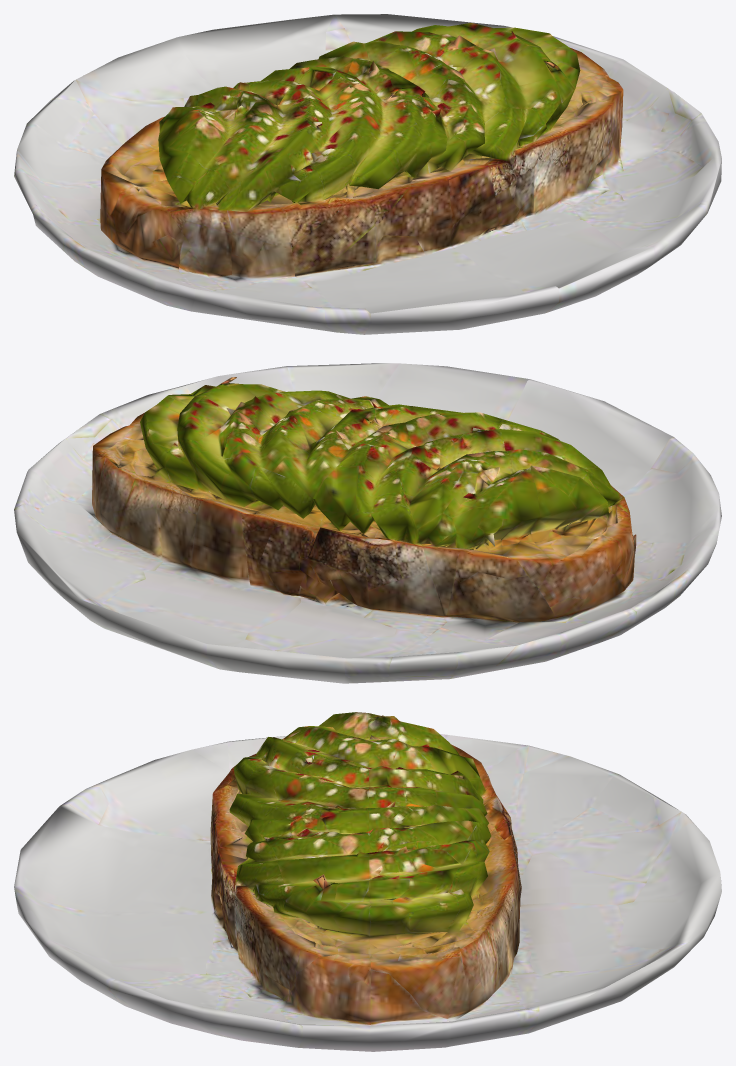
Rendered from avocado-toast-ar.glb.
The picture shows the model from 3 angles, top to bottom: view 1: azimuth 30°, elevation 25°; view 2: azimuth 150°, elevation 25°; view 3: azimuth 270°, elevation 25°; orthographic projection.
Parts seen in each view (by area): view 1: mesh_node; view 2: mesh_node; view 3: mesh_node.
Part boxes in pixels (left/top/right/bottom): mesh_node: left=14, top=14, right=721, bottom=334; mesh_node: left=14, top=363, right=721, bottom=683; mesh_node: left=14, top=712, right=721, bottom=1051.
Size of the model in its own units: 0.2393 by 0.0519 by 0.2388.
1 material, 1 textured.
